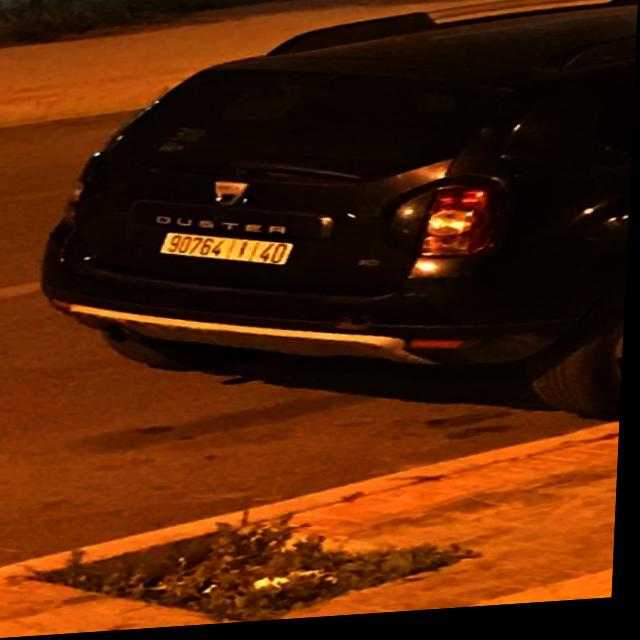License-Plate: (163, 234, 298, 269)
